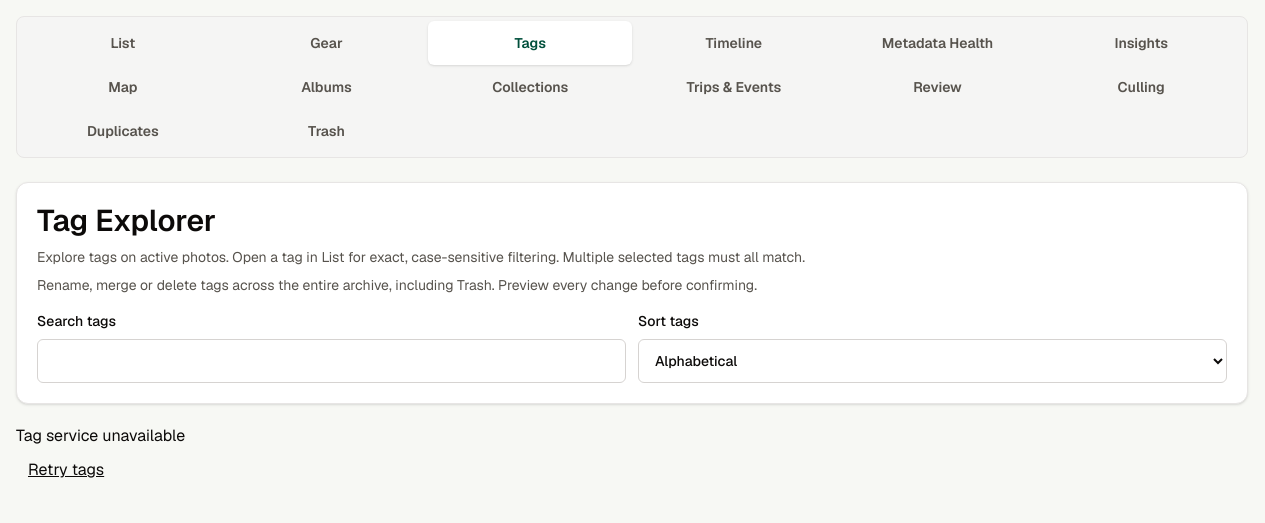
Explorer empty and error states can retry
The width and height of the screenshot is (1265, 523).
Expected: the text "Tag service unavailable" is shown, [16,425,185,446]
Click the button "Retry tags": click(66, 470) [16,448,116,492]
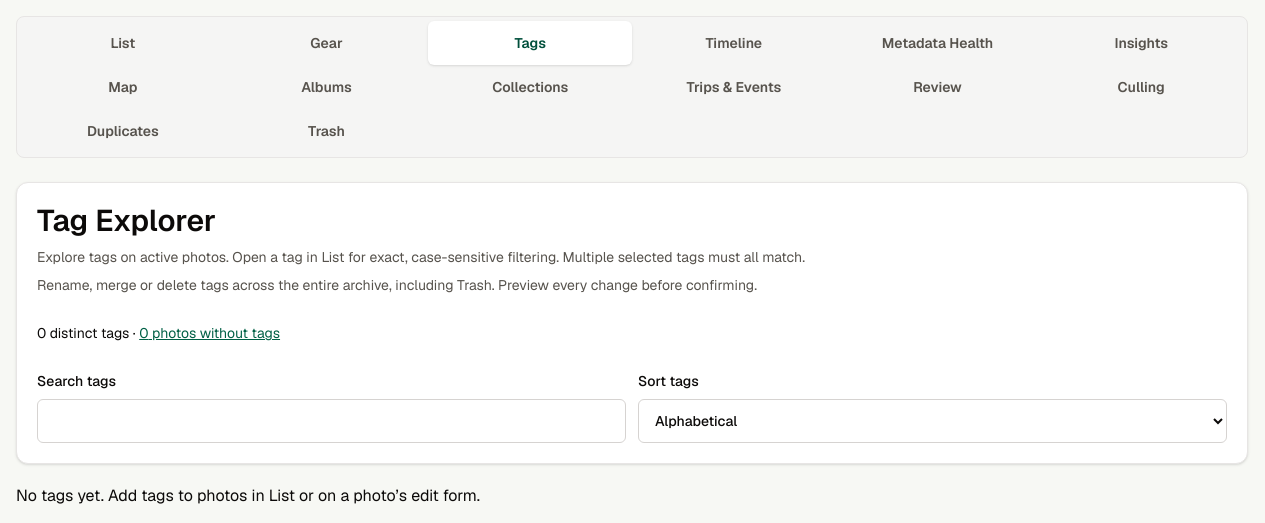
Expected: the text "No tags yet. Add tags to photos in List or on a photo’s edit form." is shown, [16,485,480,506]
